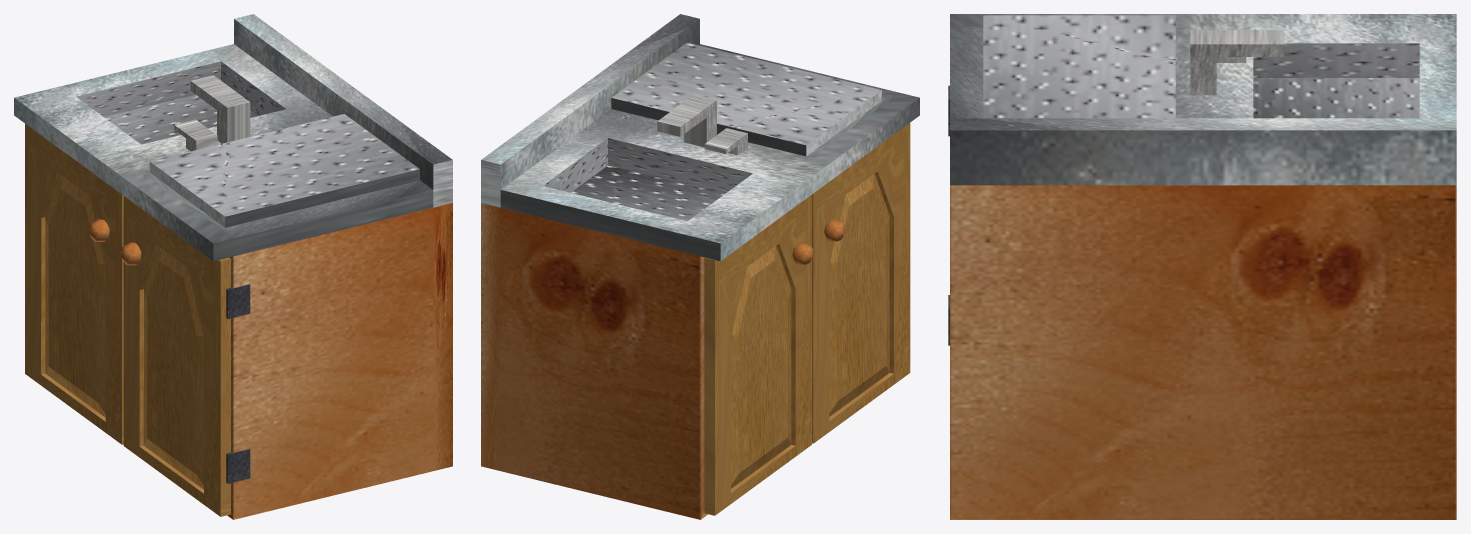
Rendered from tap1.FBX.
The picture shows the model from 3 angles, left to right: view 1: azimuth 30°, elevation 25°; view 2: azimuth 150°, elevation 25°; view 3: azimuth 270°, elevation 25°; orthographic projection. The views are drawn at different scales.
Visible parts, largest first — view 1: Object006, Box002, Sphere003, Sphere002, Object010, Object007, Object011, Object008, Box003, Object009; view 2: Object006, Sphere002, Box002, Sphere003, Object010, Object011, Object007, Object008, Object009; view 3: Object006, Object007, Object010, Box002, Object011, Object008.
Boxes of the visible parts, x1,y1,x2,y2 form: Object006: (227,203,452,519); Box002: (14,44,433,261); Sphere003: (123,196,230,516); Sphere002: (25,123,123,444); Object010: (150,114,419,216); Object007: (234,14,452,207); Object011: (76,61,285,144); Object008: (186,75,250,151); Box003: (226,284,250,483); Object009: (174,119,217,145); Object006: (481,203,707,519); Sphere002: (704,195,811,515); Box002: (500,44,919,261); Sphere003: (812,123,910,443); Object010: (611,42,881,145); Object011: (543,138,752,221); Object007: (481,14,699,207); Object008: (657,94,747,155); Object009: (704,128,747,154); Object006: (950,185,1456,519); Object007: (950,118,1456,185); Object010: (983,15,1175,118); Box002: (950,14,1456,118); Object011: (1253,43,1419,118); Object008: (1190,30,1283,95).
Bounding box in the file's own units: 63.65 × 78.93 × 88.95.
Materials: 7 (7 with a texture image).
